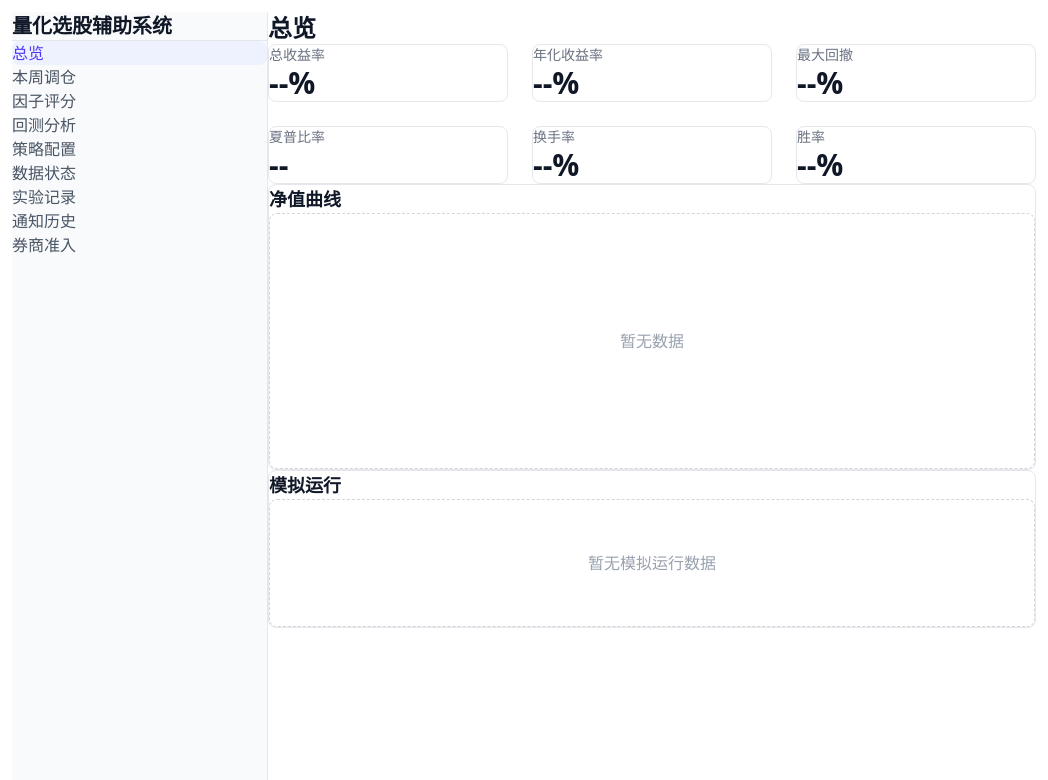
Scenario: App workspace navigation › switches to the experiments page
Click the button "实验记录": (140, 197) [12,185,267,209]
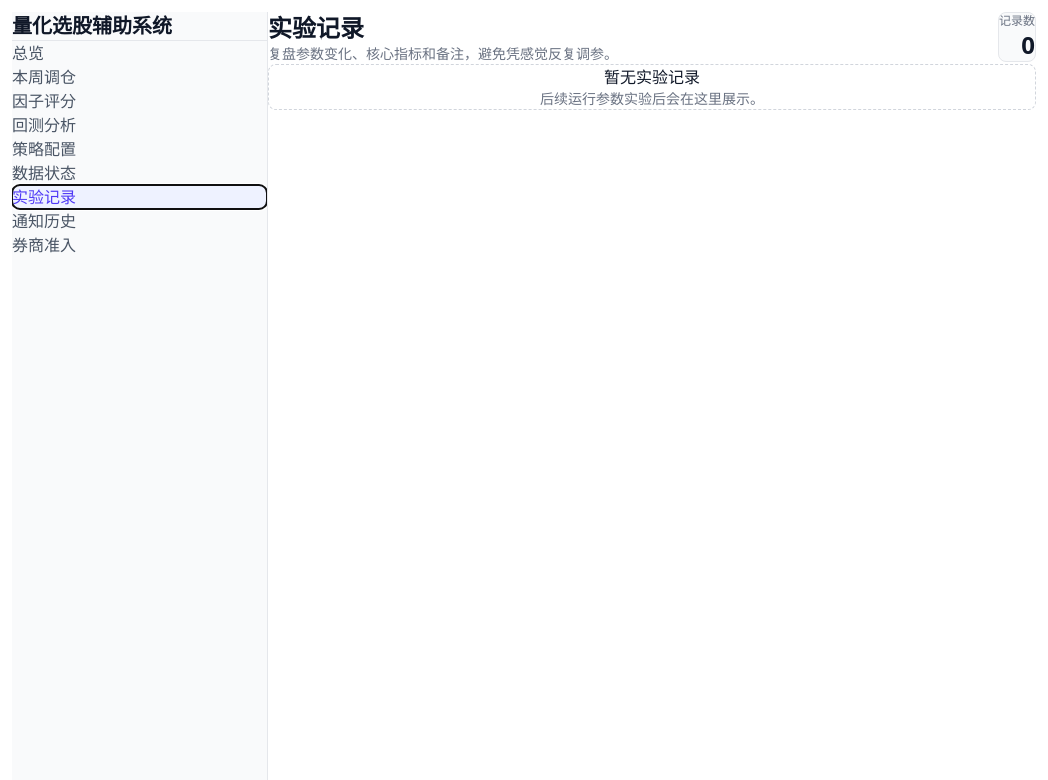
Expected: the heading "实验记录" is shown, [268,11,364,44]
